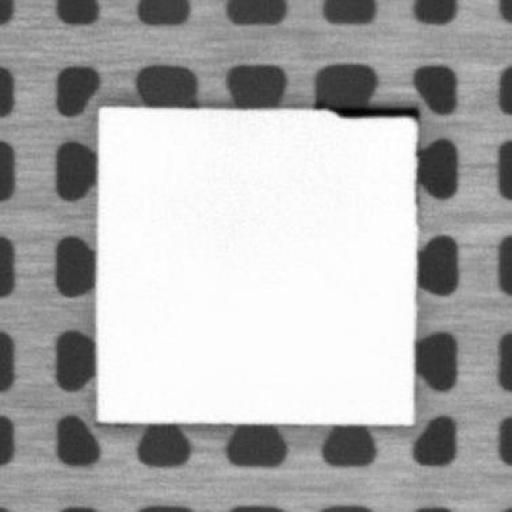DIE_BROKEN: (329, 102, 423, 120)
